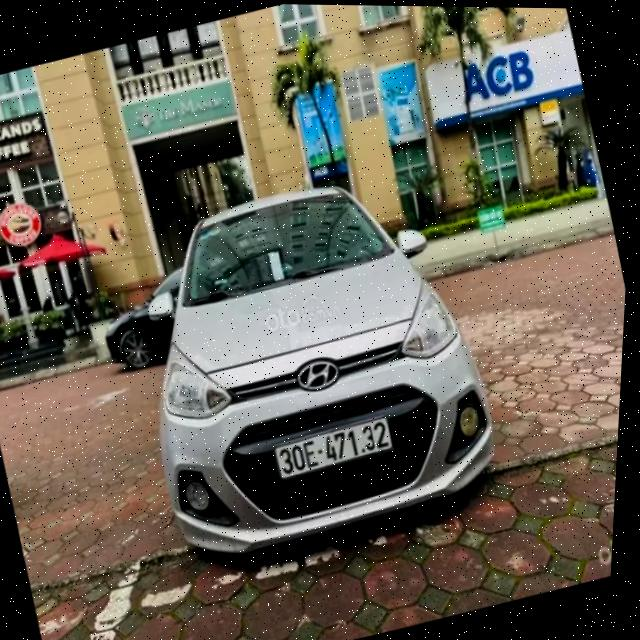car: (96, 142, 527, 589)
plate: (264, 408, 404, 487)
